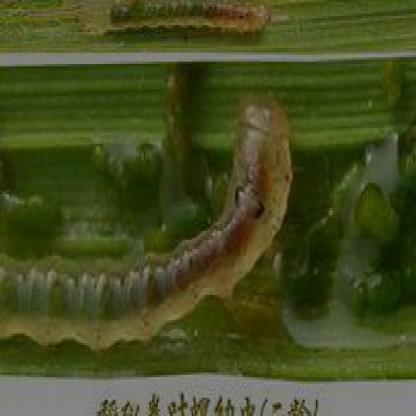leaf-folder: (3, 93, 290, 371), (104, 0, 278, 53)
